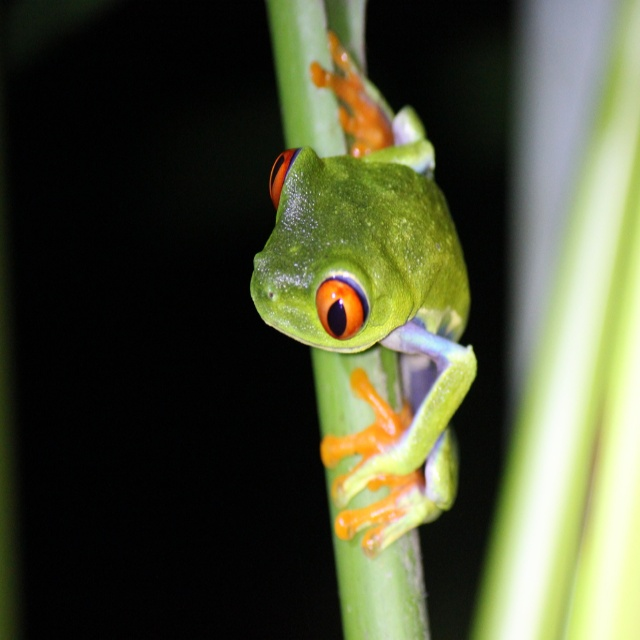Frog: (250, 27, 477, 557)
